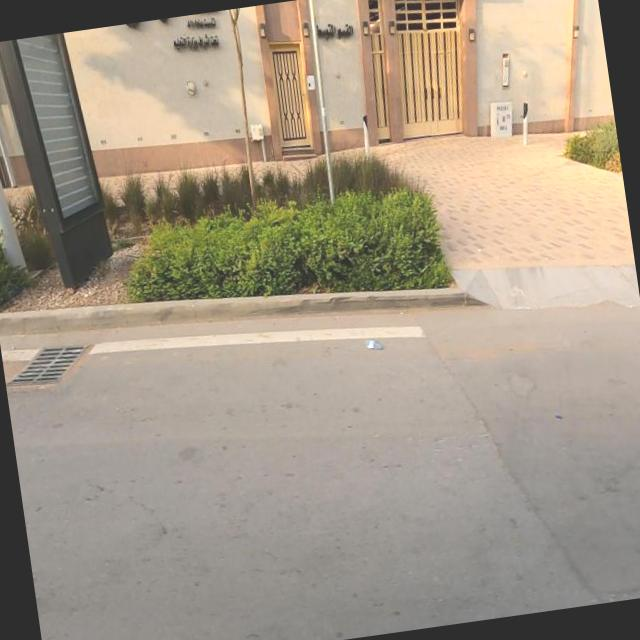debris: (345, 307, 399, 390)
